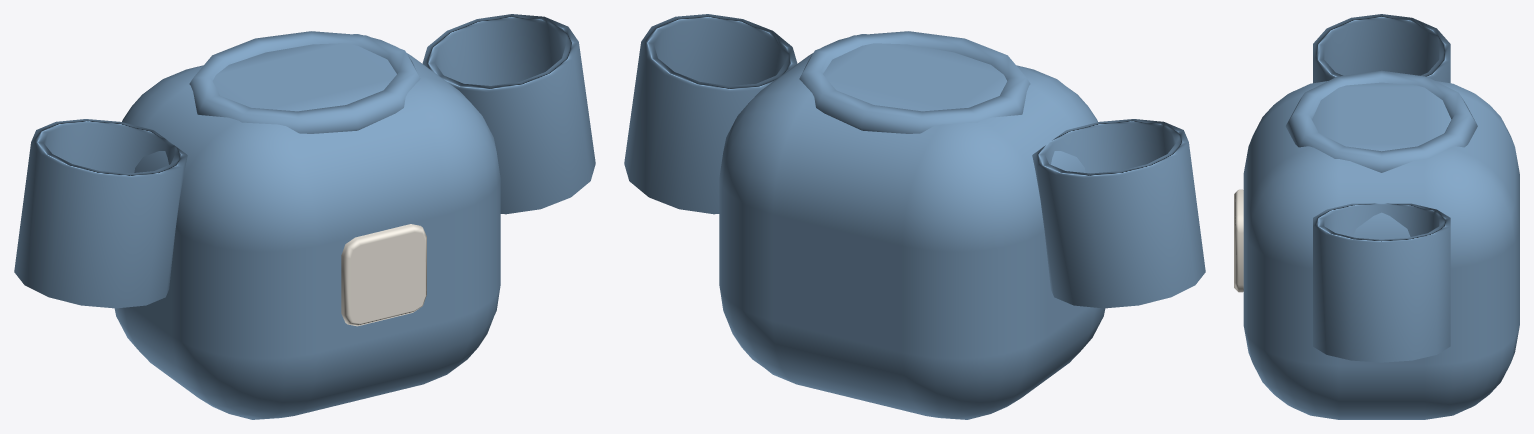
Rendered from a_tee.glb.
The picture shows the model from 3 angles, left to right: view 1: azimuth 30°, elevation 25°; view 2: azimuth 150°, elevation 25°; view 3: azimuth 270°, elevation 25°; orthographic projection. The views are drawn at different scales.
Visible parts, largest first — view 1: a_tee_Body, a_tee_ArmL, a_tee_ArmR; view 2: a_tee_Body, a_tee_ArmL, a_tee_ArmR; view 3: a_tee_Body, a_tee_ArmR, a_tee_ArmL.
Boxes of the visible parts, <box> form: a_tee_Body: <box>114,31,500,419</box>; a_tee_ArmL: <box>14,119,187,308</box>; a_tee_ArmR: <box>422,14,595,214</box>; a_tee_Body: <box>719,31,1105,419</box>; a_tee_ArmL: <box>1032,119,1205,308</box>; a_tee_ArmR: <box>624,14,797,214</box>; a_tee_Body: <box>1234,70,1519,419</box>; a_tee_ArmR: <box>1313,203,1450,362</box>; a_tee_ArmL: <box>1313,14,1450,83</box>.
Bounding box in the file's own units: 0.6053 × 0.3119 × 0.3.
